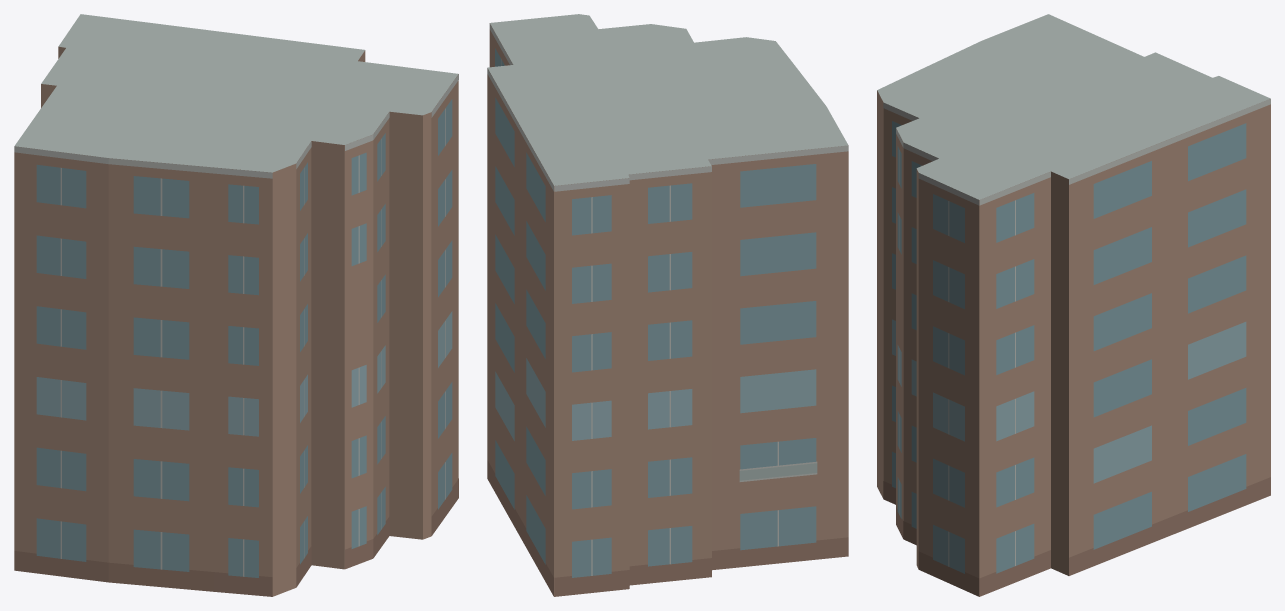
Rendered from survey-upis-32796608.glb.
The picture shows the model from 3 angles, left to right: view 1: azimuth 30°, elevation 25°; view 2: azimuth 150°, elevation 25°; view 3: azimuth 270°, elevation 25°; orthographic projection. The views are drawn at different scales.
Visible parts, largest first — view 1: survey-upis-32796608.tmp; view 2: survey-upis-32796608.tmp; view 3: survey-upis-32796608.tmp.
Part boxes in pixels (x1,y1,x2,y2): survey-upis-32796608.tmp: (14,14,458,596); survey-upis-32796608.tmp: (487,14,848,596); survey-upis-32796608.tmp: (877,14,1270,596).
Bounding box in the file's own units: 16.99 × 16.9 × 15.2.
